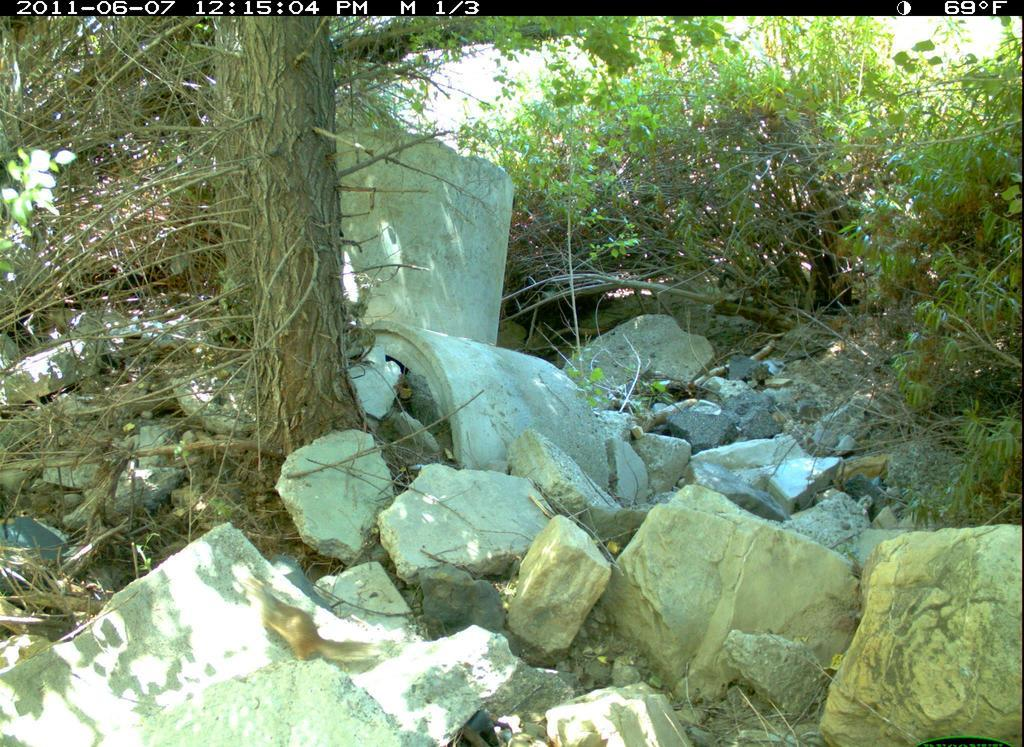squirrel: (233, 567, 388, 674)
